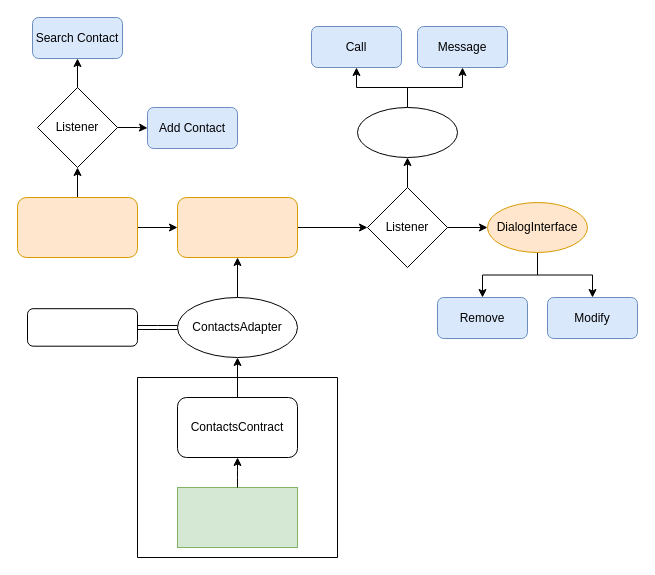
Some shapes in this 655 by 575 pixel diagram are drawn without their labels. Here are the shapes that lost their labels. From the top down, the centre of each, then its label:
At (x=407, y=132): "SwipeController".
At (x=77, y=227): "Contact Fragment".
At (x=237, y=227): "RecyclerView".
At (x=82, y=327): "ContactsData".
At (x=237, y=517): "ContentsProvider".
